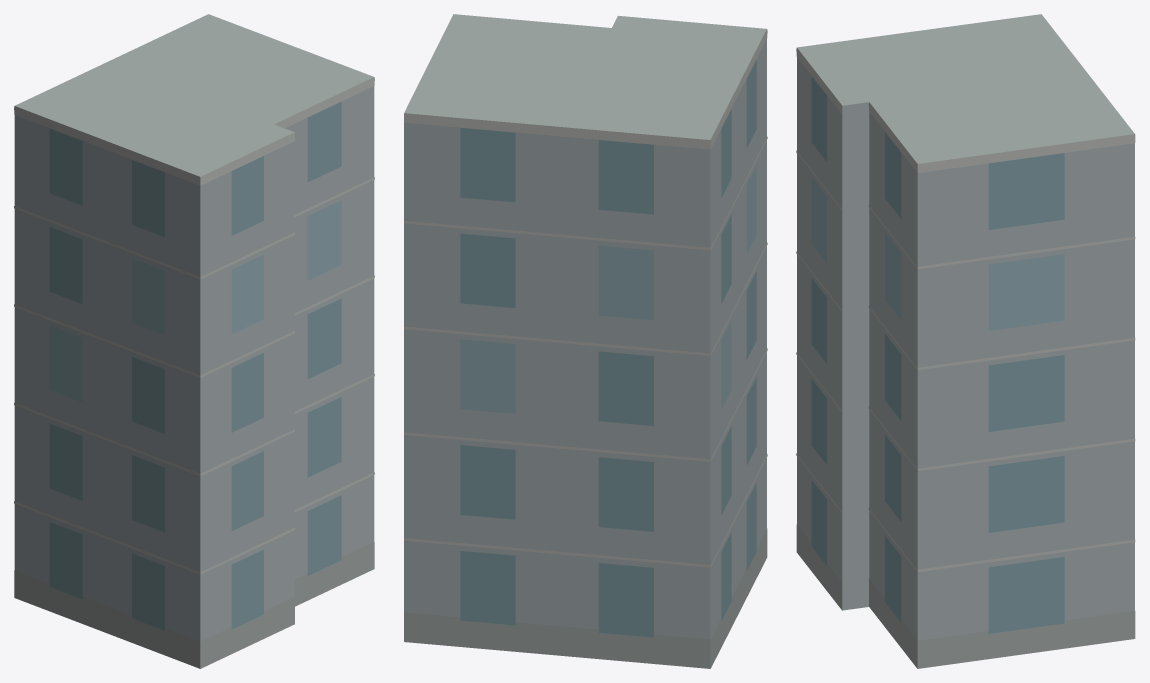
The model's file is survey-upis-33023157.glb.
3 renders of one model, left to right at view 1: azimuth 30°, elevation 25°; view 2: azimuth 150°, elevation 25°; view 3: azimuth 270°, elevation 25°, orthographic. The views are drawn at different scales.
Parts seen in each view (by area): view 1: survey-upis-33023157.tmp; view 2: survey-upis-33023157.tmp; view 3: survey-upis-33023157.tmp.
Boxes of the visible parts, bbox=[...] form: survey-upis-33023157.tmp: bbox=[14, 14, 374, 668]; survey-upis-33023157.tmp: bbox=[404, 14, 767, 668]; survey-upis-33023157.tmp: bbox=[796, 14, 1135, 668].
Size of the model in its own units: 8.63 by 13.5 by 8.22.
